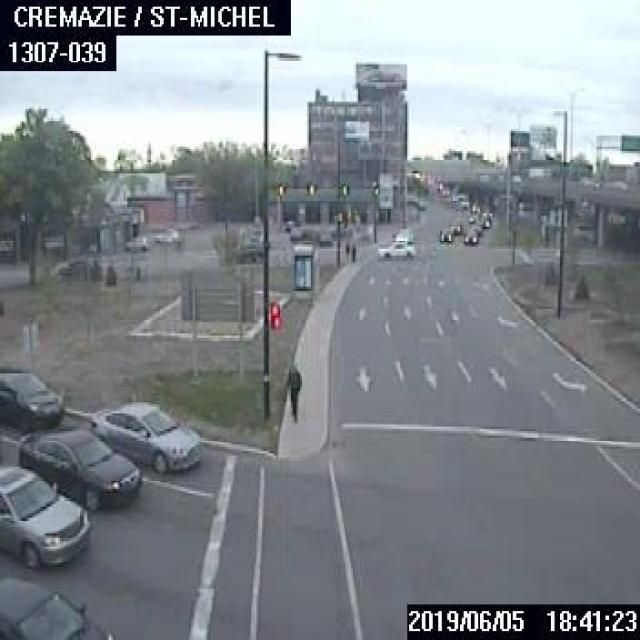pedestrian: (284, 360, 302, 420), (343, 238, 349, 260), (350, 240, 355, 260)
vehicle: (18, 425, 140, 509), (0, 462, 91, 567), (90, 396, 202, 474), (0, 569, 115, 638), (0, 369, 62, 429), (374, 235, 416, 258), (152, 226, 180, 243), (124, 234, 149, 249), (392, 225, 411, 241), (436, 226, 451, 242), (462, 228, 476, 244), (449, 220, 462, 233), (469, 223, 482, 234)
